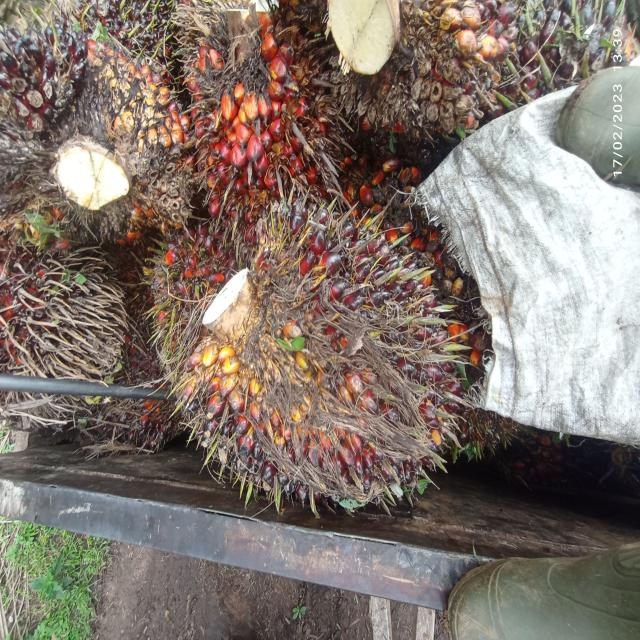fraksi 00: (0, 13, 84, 143)
fraksi 1: (170, 193, 480, 504)
fraksi 4: (168, 0, 314, 220)
